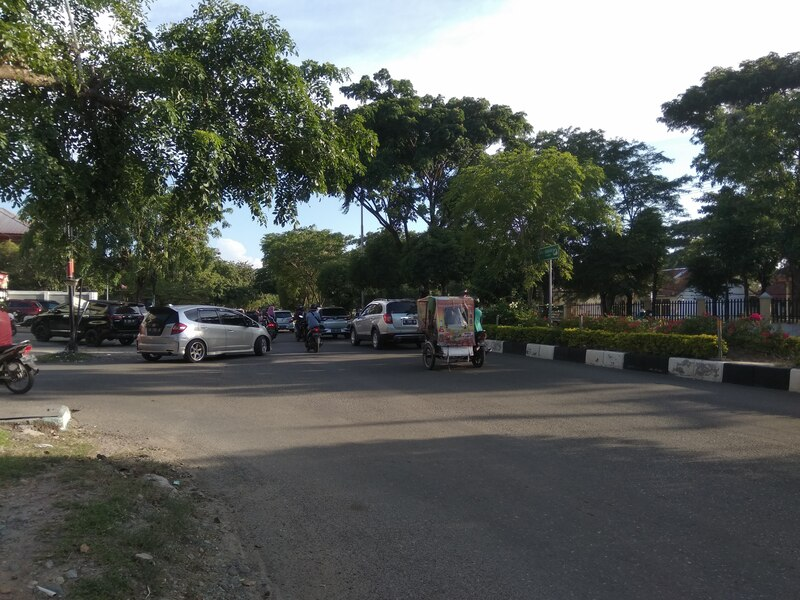car: (134, 298, 278, 362), (348, 298, 434, 351), (3, 337, 36, 399)
